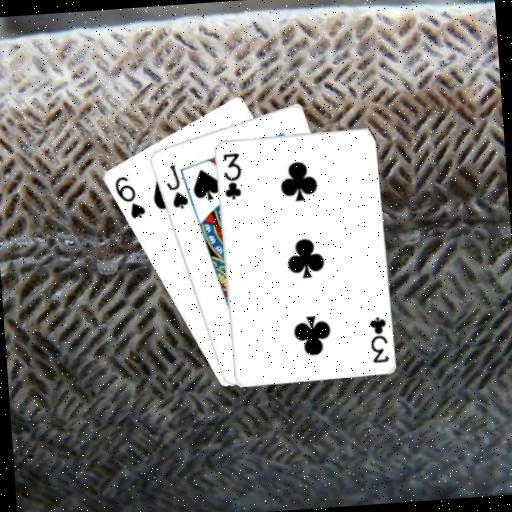3C: (218, 149, 245, 201), (365, 312, 390, 364)
6S: (111, 171, 148, 222)
JS: (161, 160, 190, 212)
